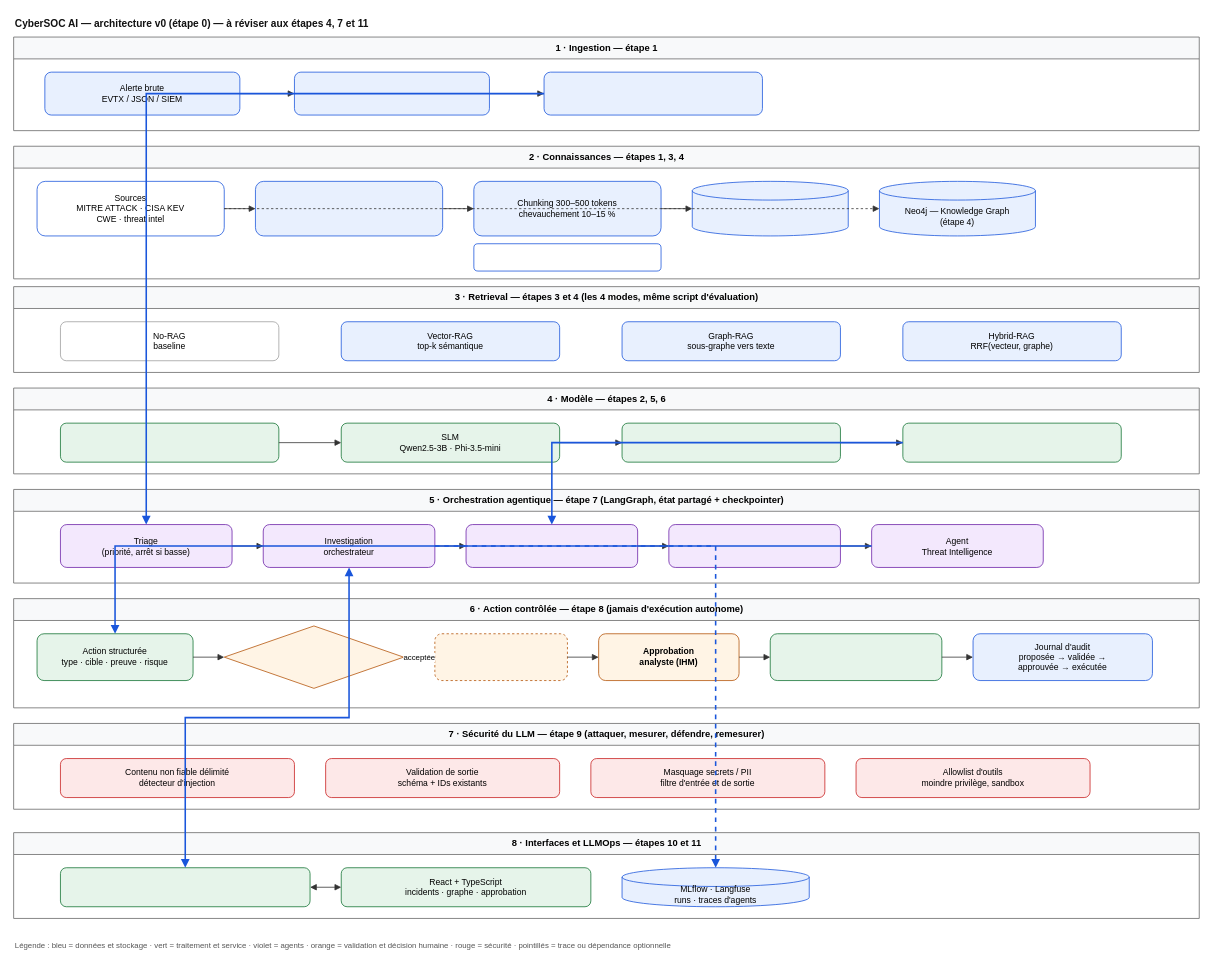
Some shapes in this 1213 by 970 pixel diagram are drawn without their labels. The centre of each missing label's shape, as x and y in pixels:
"Adaptateur LoRA + quantification FP16/INT8/INT4" belongs at pixel 730 442.
"Agent Knowledge Graph" belongs at pixel 754 545.
"Agent RAG" belongs at pixel 551 545.
"Extraction d'entités IP · host · user · hash · CVE" belongs at pixel 652 93.
"Exécution sandbox état simulé, zéro commande réelle" belongs at pixel 855 657.
"FastAPI /alerts · /investigate (SSE) /actions/approve · /audit" belongs at pixel 185 887.
"Import STIX techniques · groupes · malwares" belongs at pixel 567 257.
"Normalisation JSONL + listes d'IDs valides" belongs at pixel 349 208.
"Normalisation schéma Alert (Pydantic)" belongs at pixel 391 93.
"Prompt système SOC sortie JSON stricte" belongs at pixel 169 442.
"statut = PENDING" belongs at pixel 500 657.
"Validation allowlist · cible connue ressource non protégée" belongs at pixel 313 656.
"Vector store (Chroma — étape 3)" belongs at pixel 769 208.
"vLLM batching · prefix caching · KV cache" belongs at pixel 1011 442.
